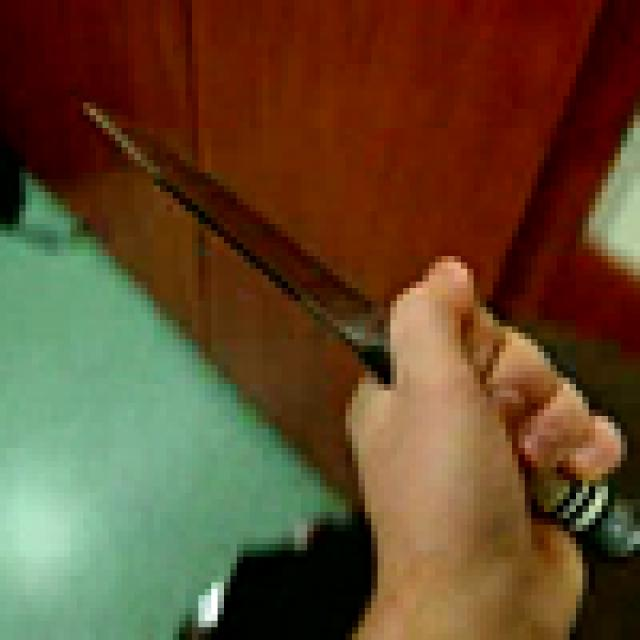Knife: (83, 77, 640, 563)
